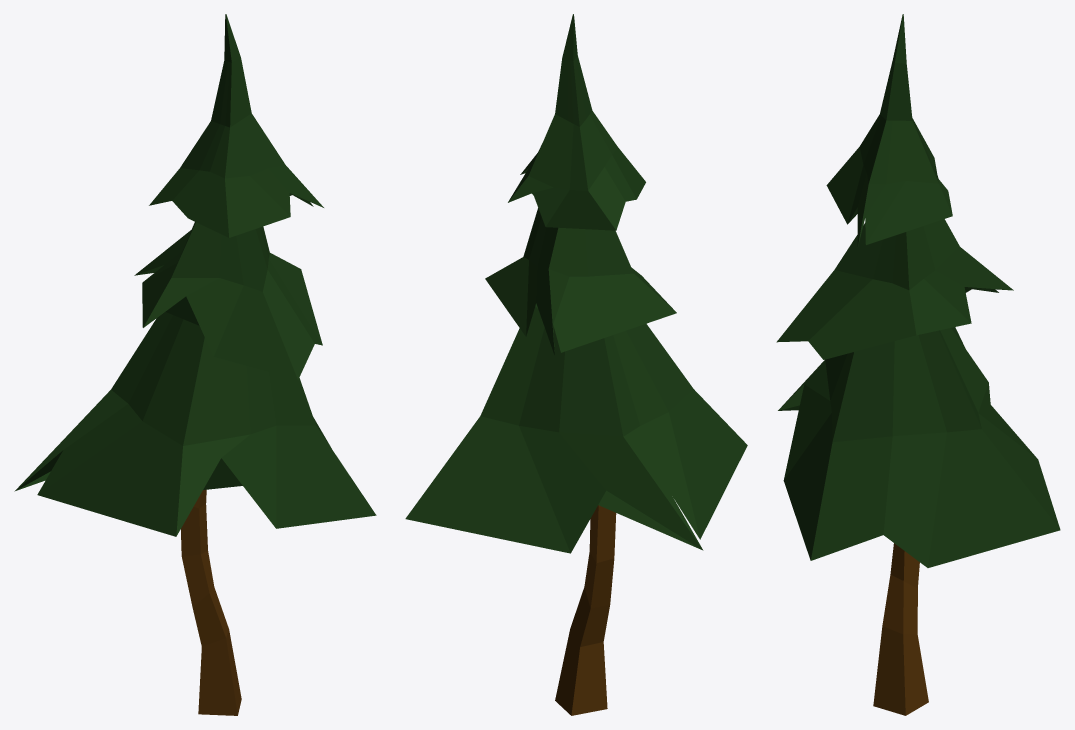
File: PineTree03_EM.fbx
The picture shows the model from 3 angles, left to right: view 1: azimuth 30°, elevation 25°; view 2: azimuth 150°, elevation 25°; view 3: azimuth 270°, elevation 25°; orthographic projection.
Parts seen in each view (by area): view 1: PineTree03_EM; view 2: PineTree03_EM; view 3: PineTree03_EM.
Boxes of the visible parts, bbox=[...] form: PineTree03_EM: bbox=[14, 14, 376, 715]; PineTree03_EM: bbox=[405, 14, 747, 715]; PineTree03_EM: bbox=[776, 14, 1060, 715].
Size of the model in its own units: 248 by 586 by 218.
